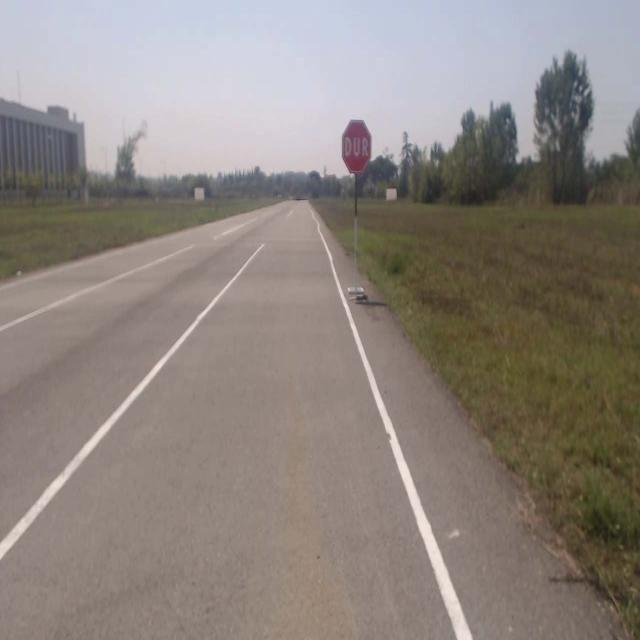dur: (342, 121, 371, 173)
